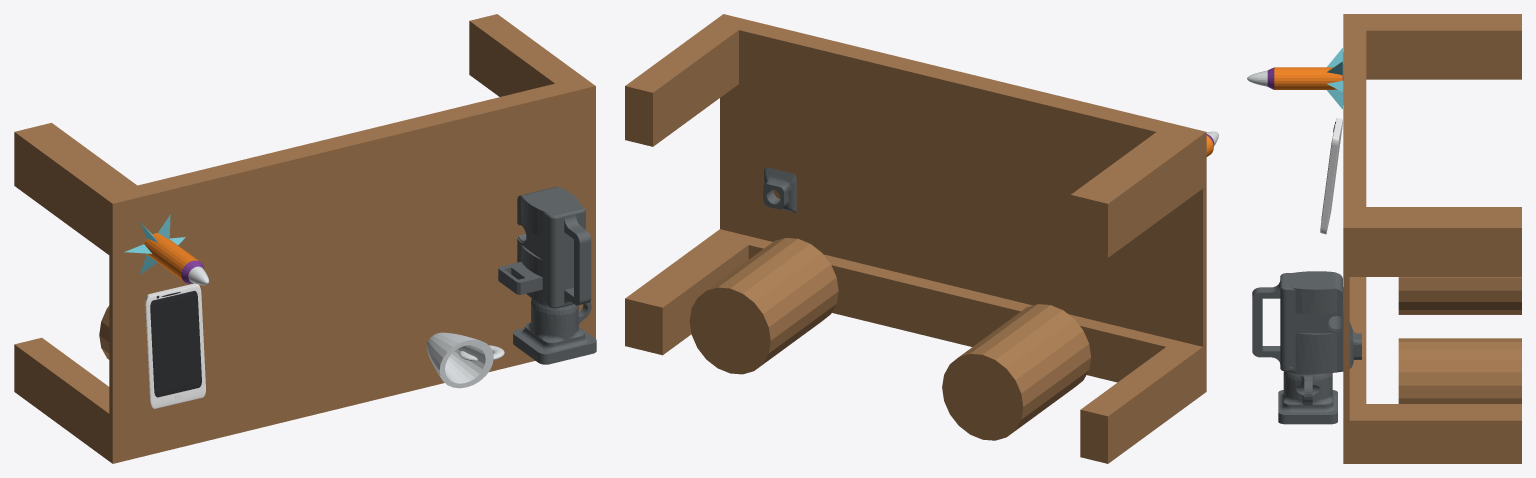
The model's file is tinker.obj.
The picture shows the model from 3 angles, left to right: view 1: azimuth 30°, elevation 25°; view 2: azimuth 150°, elevation 25°; view 3: azimuth 270°, elevation 25°; orthographic projection. The views are drawn at different scales.
Parts seen in each view (by area): view 1: group_0_11107152, group_0_6383466, group_0_2829873, group_0_14541540, group_0_16448250, group_0_16089887, group_0_7720667; view 2: group_0_11107152, group_0_6383466; view 3: group_0_11107152, group_0_6383466, group_0_16089887, group_0_16448250, group_0_7720667.
Boxes of the visible parts, bbox=[...] form: group_0_11107152: bbox=[14, 14, 595, 463]; group_0_6383466: bbox=[498, 186, 596, 364]; group_0_2829873: bbox=[150, 290, 201, 397]; group_0_14541540: bbox=[188, 266, 504, 388]; group_0_16448250: bbox=[145, 283, 205, 408]; group_0_16089887: bbox=[144, 233, 199, 281]; group_0_7720667: bbox=[124, 214, 185, 274]; group_0_11107152: bbox=[625, 14, 1206, 463]; group_0_6383466: bbox=[763, 167, 796, 212]; group_0_11107152: bbox=[1343, 14, 1521, 463]; group_0_6383466: bbox=[1252, 271, 1361, 424]; group_0_16089887: bbox=[1274, 67, 1342, 89]; group_0_16448250: bbox=[1320, 118, 1342, 234]; group_0_7720667: bbox=[1327, 48, 1343, 109].
Size of the model in its own units: 119 by 62.73 by 64.6.
